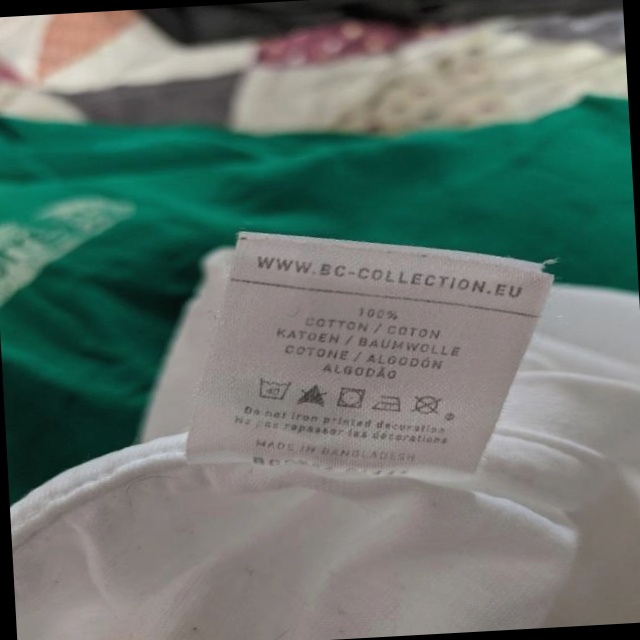40C: (257, 375, 294, 404)
DN_bleach: (297, 378, 331, 410)
DN_dry_clean: (410, 393, 445, 418)
iron_medium: (373, 392, 404, 414)
tumble_dry_low: (335, 384, 368, 412)
